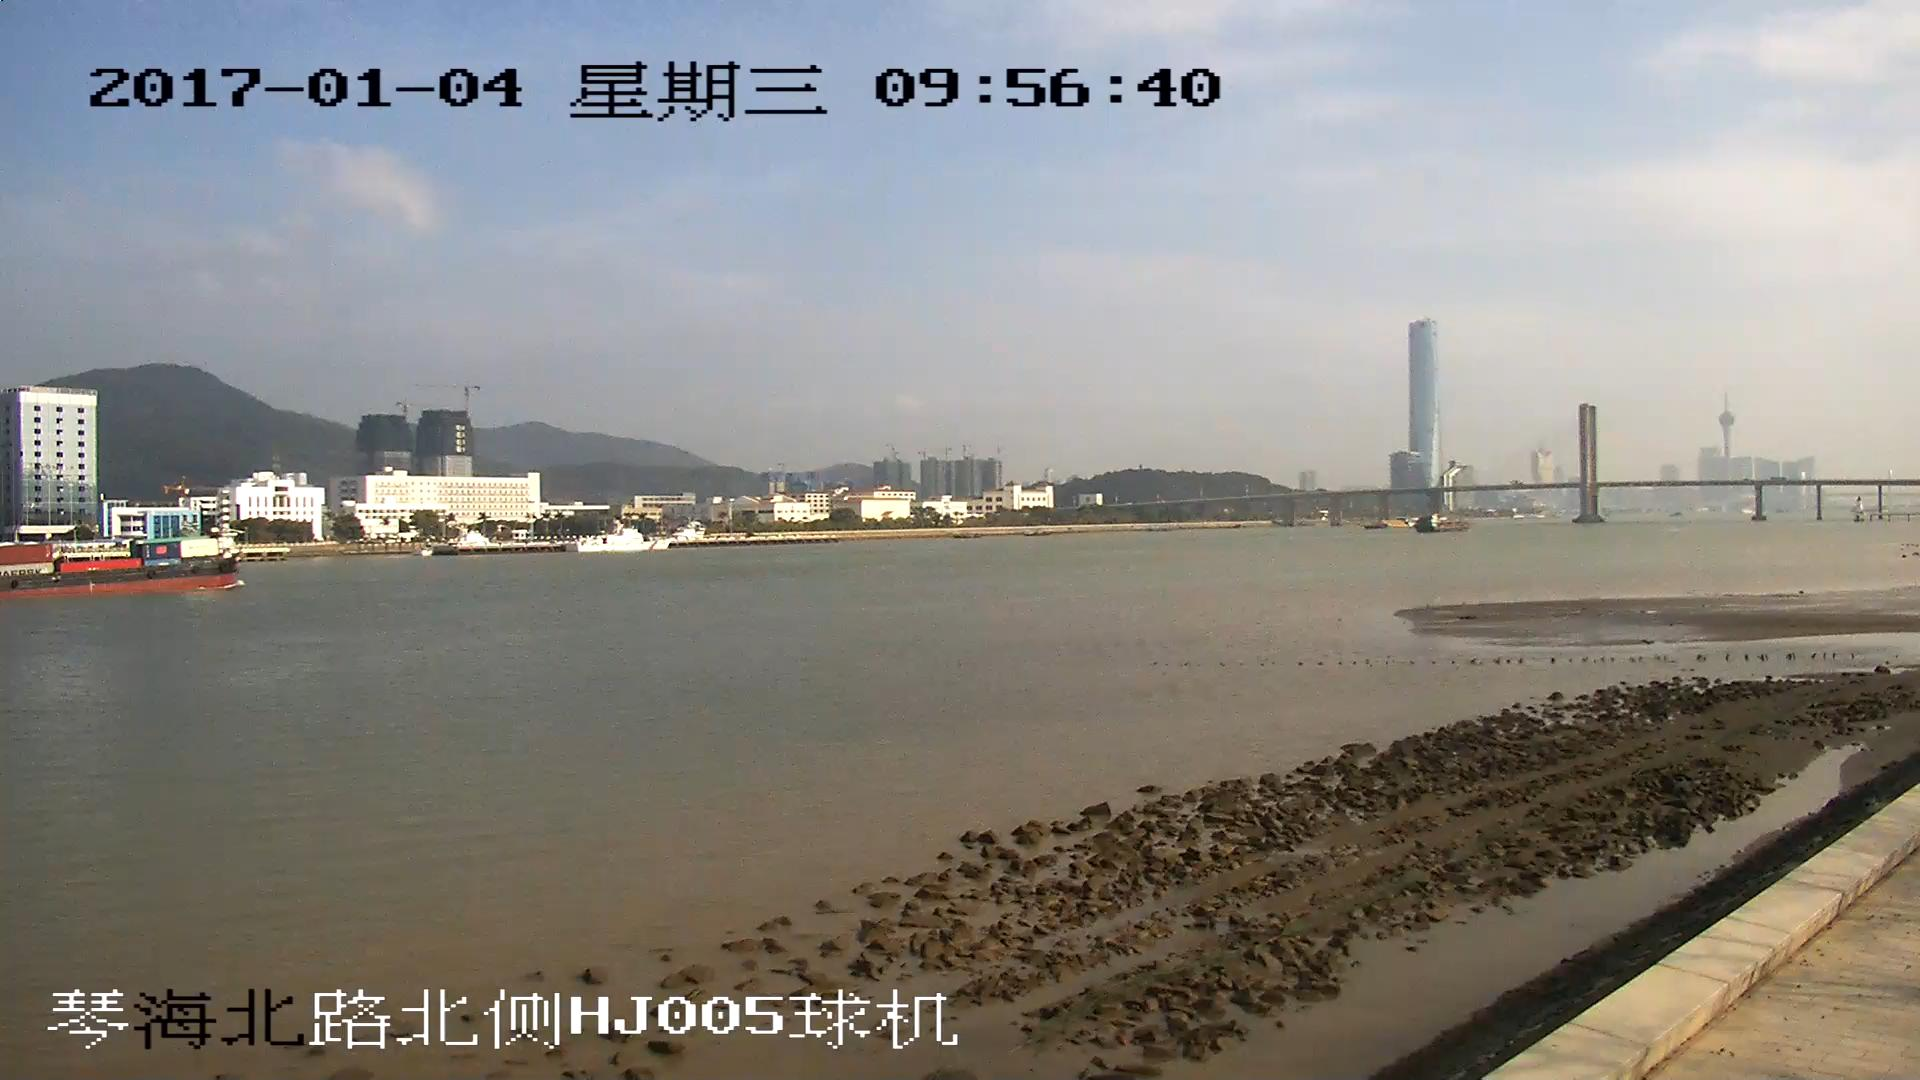container ship: (1, 536, 240, 593)
